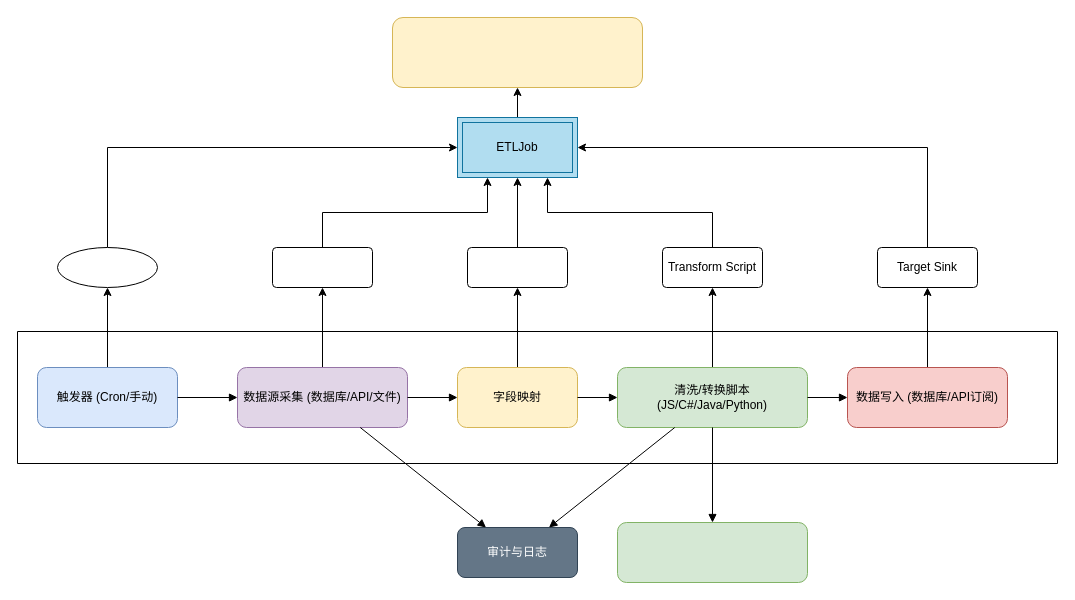
The diagram is 1075 pixels wide and 600 high, and some of its shapes have lost their labels. Each missing label, with the centre of its shape:
API层 (任务/数据源/脚本管理): the point at 517,52
Data Source: the point at 322,267
Field Mapping: the point at 517,267
Schedule Cron: the point at 107,267
脚本执行引擎 (Roslyn/JS/Java): the point at 712,552
